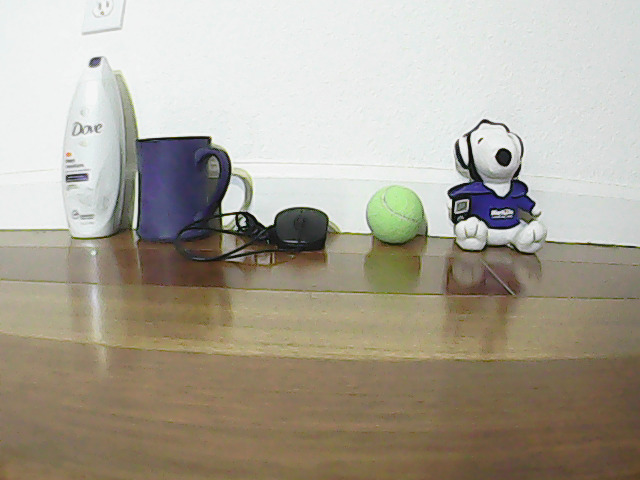ball: (363, 168, 423, 248)
mouse: (267, 194, 328, 255)
mug: (131, 131, 221, 239)
snoopy: (458, 117, 553, 257)
soap: (65, 41, 127, 240)
